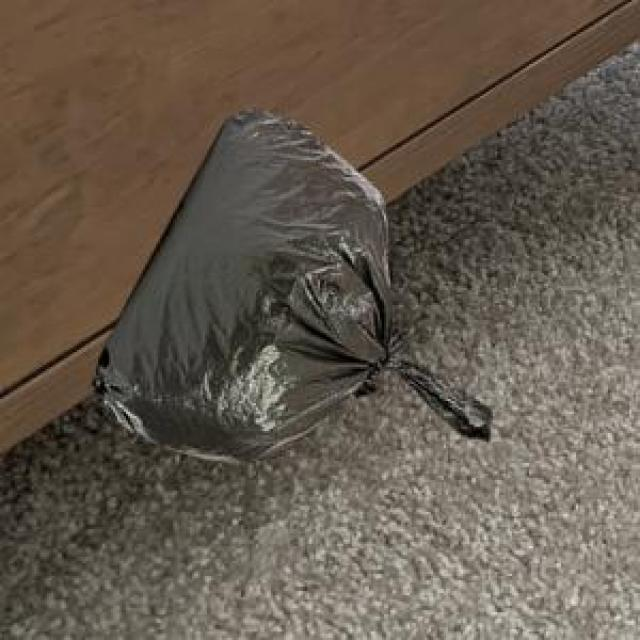miscellaneous trash: (88, 105, 489, 461)
